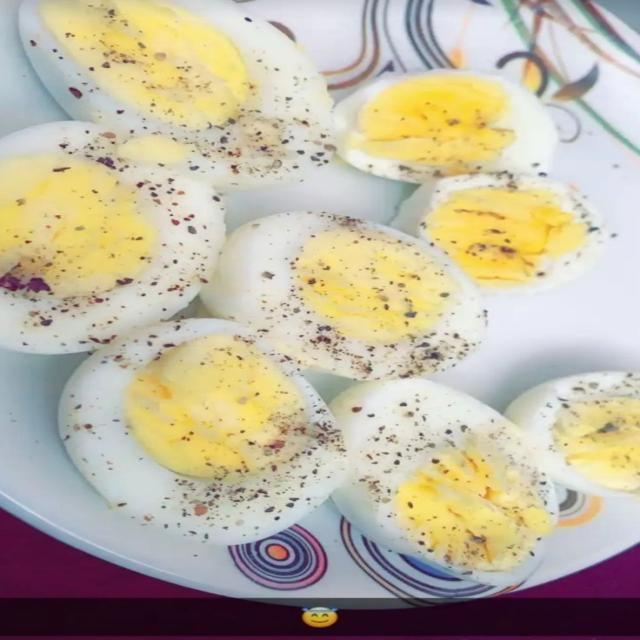eggs: (14, 6, 640, 572)
